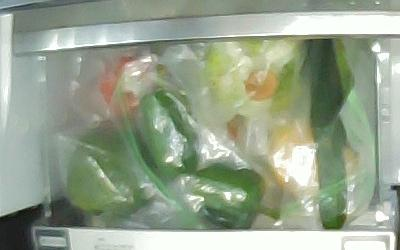apple_vinyl: (100, 55, 147, 115)
broccoli_vinyl: (63, 128, 153, 215)
cucumber_vinyl: (304, 38, 347, 230)
grapefruit_vinyl: (269, 117, 357, 196)
lettuce_vinyl: (205, 38, 307, 116)
paprika_vinyl: (136, 70, 198, 177), (189, 163, 279, 229)
